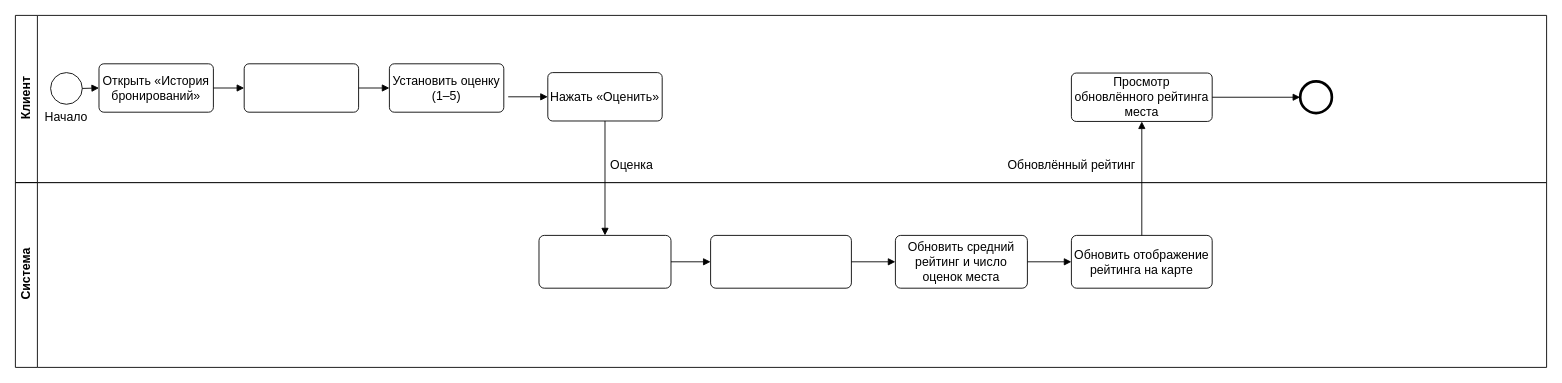
This 1562x383 diagram has some shape labels left out. The centre of each missing label's shape, as x and y in pixels:
"Выбрать завершённое бронирование" belongs at [301,87].
"Оценка сохранена" belongs at [1315,97].
"Пересчитать средний рейтинг" belongs at [780,261].
"Сохранить оценку в хранилище данных" belongs at [604,261].
